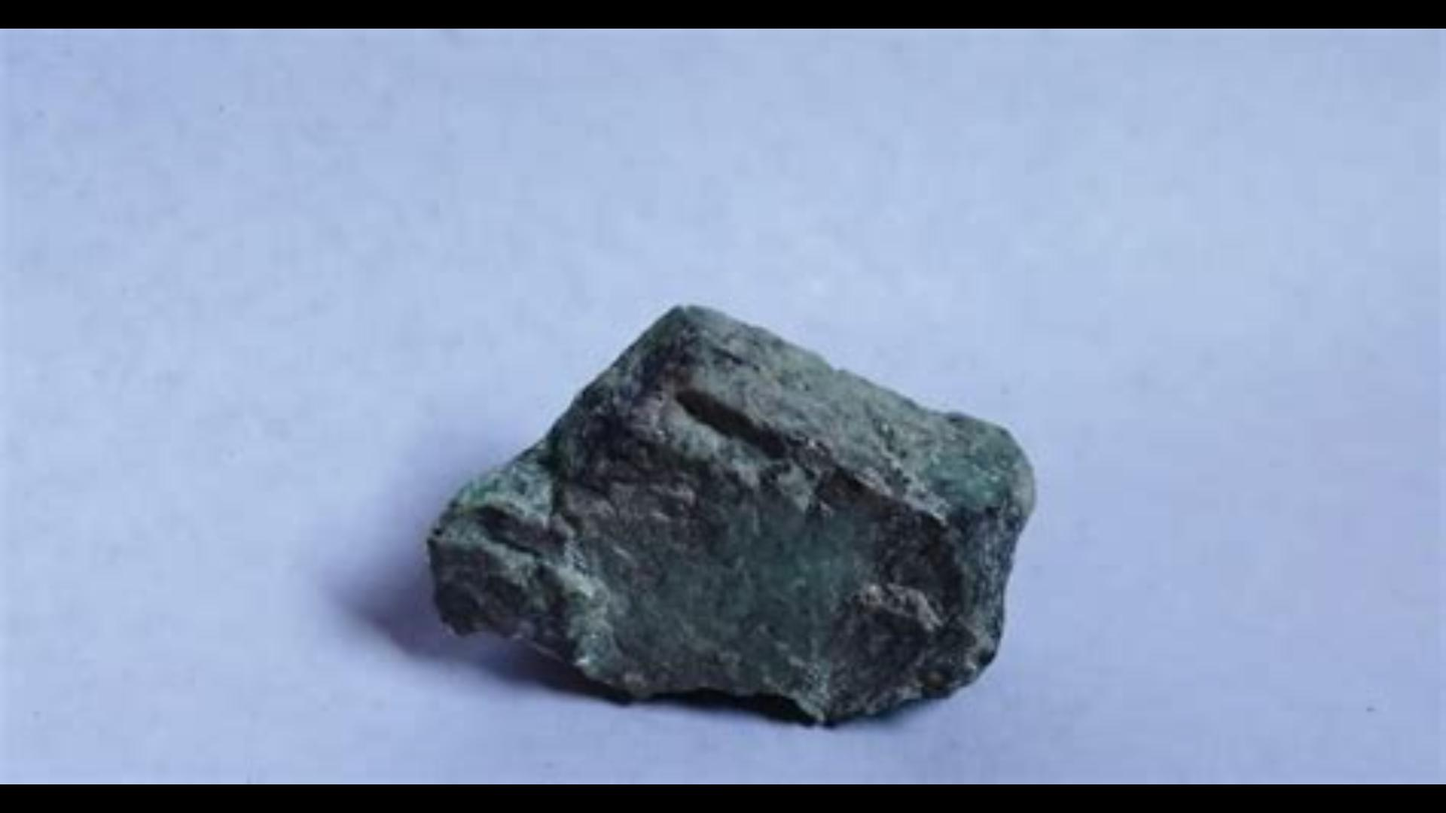rock: (430, 306, 1031, 718)
